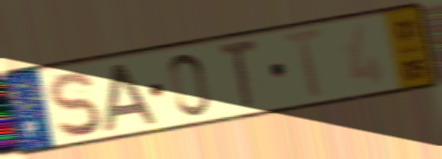0: (167, 51, 211, 118)
4: (346, 19, 389, 90)
A: (102, 61, 160, 134)
S: (45, 69, 104, 141)
T: (280, 25, 330, 103), (216, 36, 261, 114)
